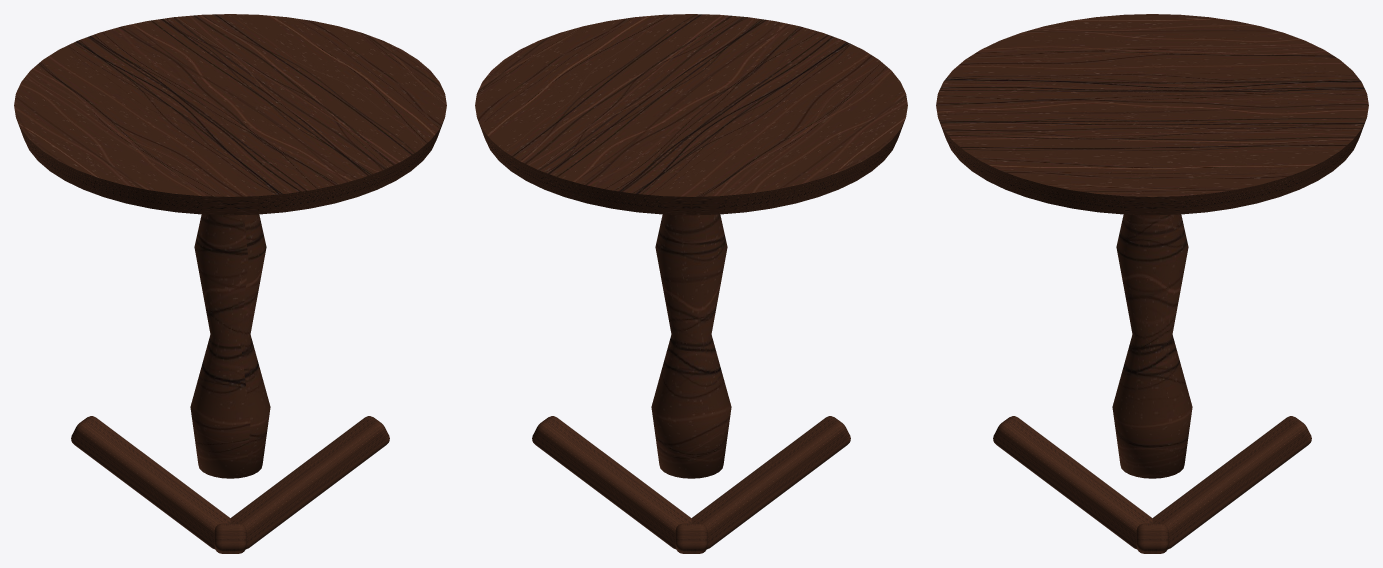
The model's file is mesa-lateral-jacaranda.glb.
The picture shows the model from 3 angles, left to right: view 1: azimuth 30°, elevation 25°; view 2: azimuth 150°, elevation 25°; view 3: azimuth 270°, elevation 25°; orthographic projection.
Visible parts, largest first — view 1: sideTable; view 2: sideTable; view 3: sideTable.
Part boxes in pixels (x1,y1,x2,y2): sideTable: [14, 14, 446, 553]; sideTable: [475, 14, 907, 553]; sideTable: [936, 14, 1368, 553].
Bounding box in the file's own units: 0.54 × 0.6096 × 0.54.
Materials: 1 (1 with a texture image).
